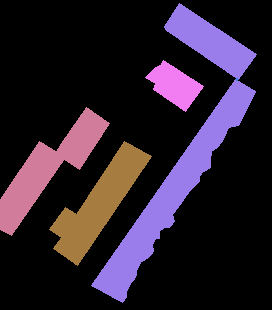parkingspot: (91, 79, 255, 302), (49, 141, 151, 265), (164, 3, 256, 79), (0, 141, 65, 235), (55, 107, 109, 169), (145, 60, 203, 111)
